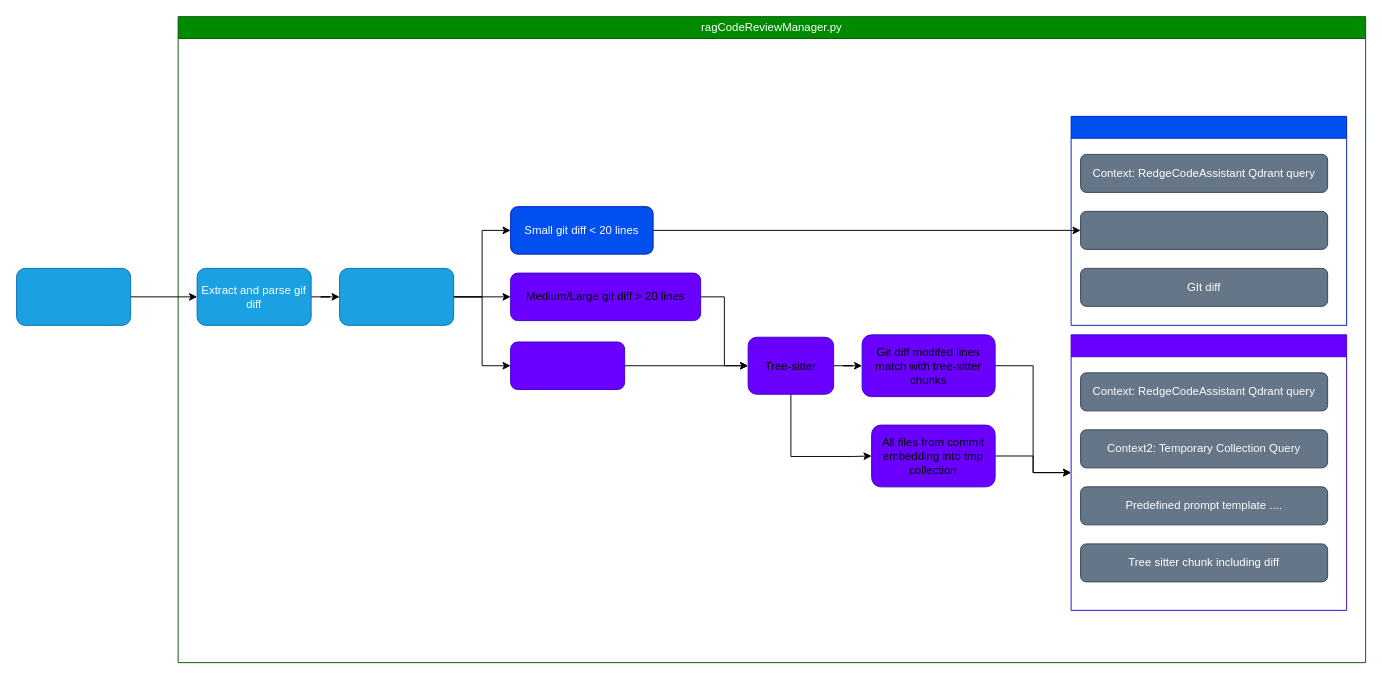
This 1382x679 diagram has some shape labels left out. Each missing label, with the box of its shape:
Decide diff processing: (339, 267, 454, 325)
Gerrit Change: (16, 267, 131, 325)
New file added: (510, 341, 625, 390)
Predefined prompt template ...: (1080, 210, 1328, 249)
Raw diff prompt: (1070, 115, 1347, 325)
Tree-sitter prompt: (1070, 334, 1347, 610)
